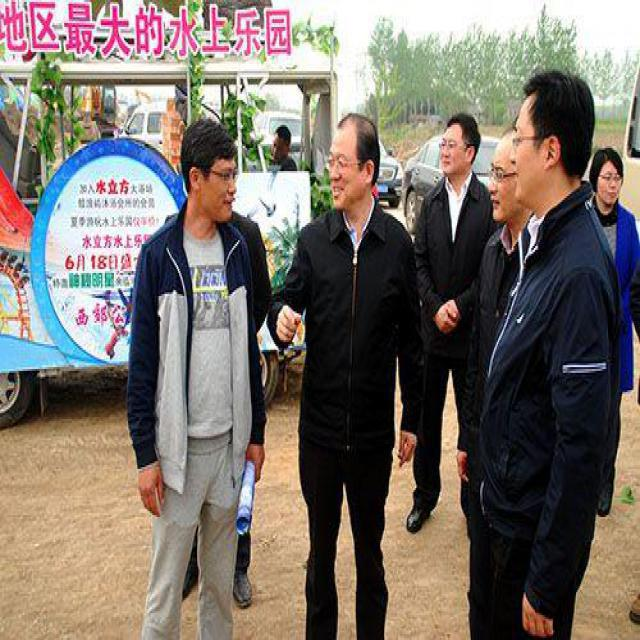head: (504, 63, 594, 209), (329, 101, 385, 218), (180, 116, 243, 220), (490, 126, 528, 230), (436, 109, 482, 184), (591, 144, 627, 215), (269, 119, 294, 163)
person: (113, 113, 274, 625), (476, 63, 610, 630), (279, 100, 418, 633), (406, 106, 485, 540), (581, 135, 640, 527)
